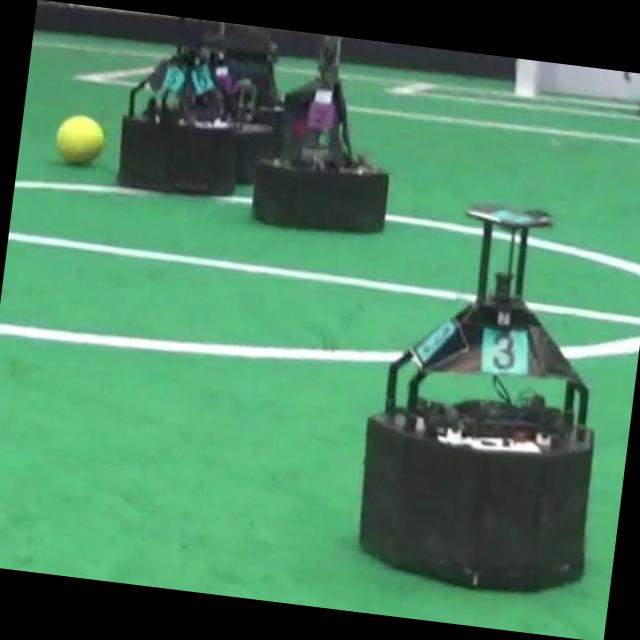ball: (56, 113, 103, 163)
goal: (514, 57, 538, 95)
robot: (359, 204, 594, 589), (252, 34, 388, 231), (117, 19, 237, 193), (201, 21, 283, 182)
